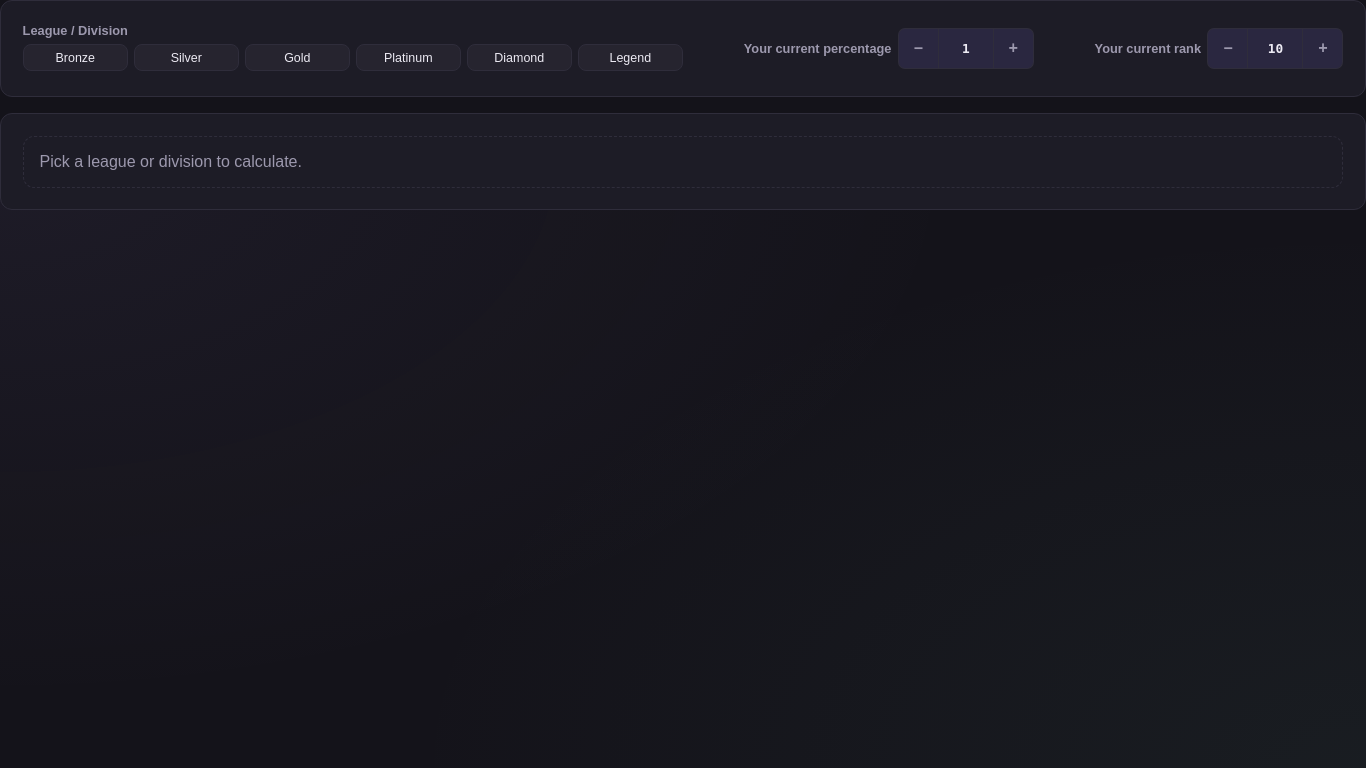
RankingCalculator › renders the target league and rewards translated in English
The width and height of the screenshot is (1366, 768).
Click the button "Diamond" at (519, 58), box [467,44,572,71]
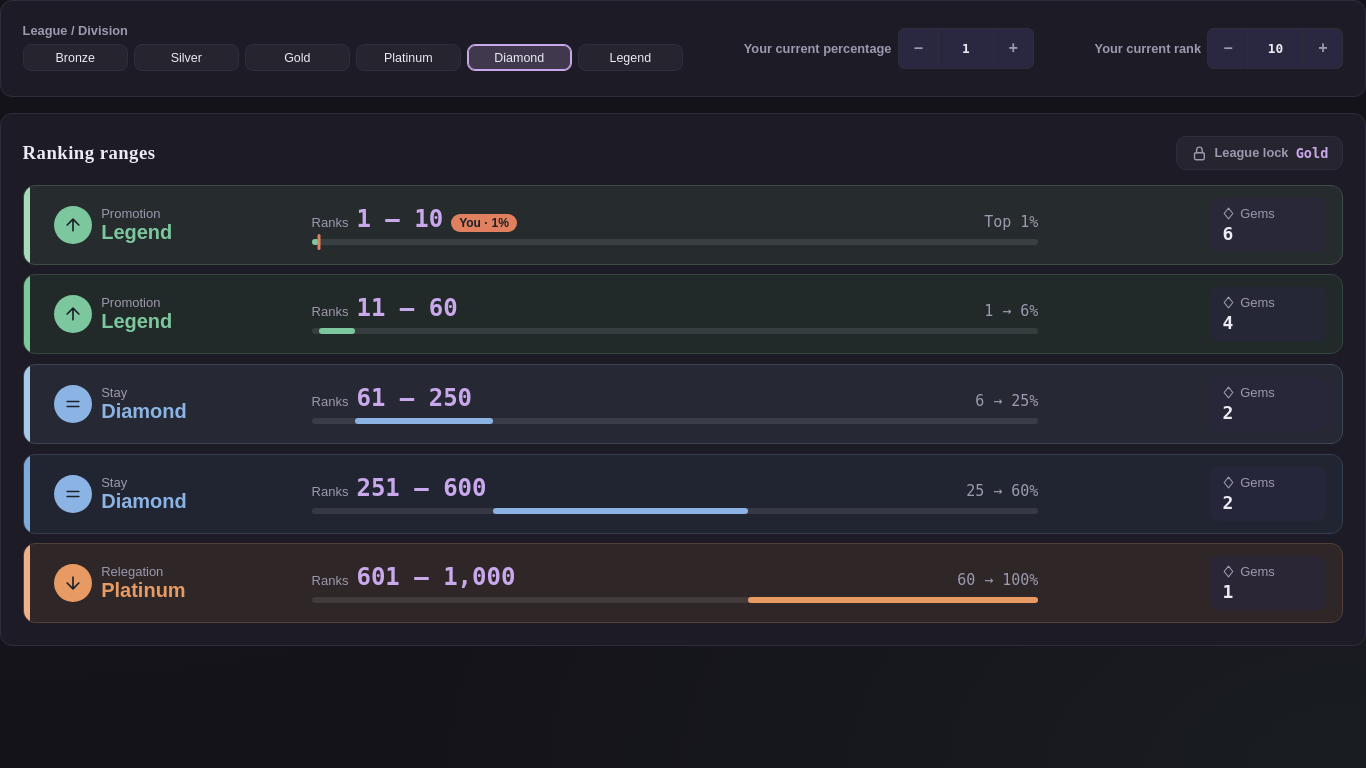
Expected: the text "Promotion" is shown 2 times, [101,206,160,221]; [101,295,160,310]
Expected: the text "Legend" is shown 2 times, [101,221,172,244]; [101,310,172,333]
